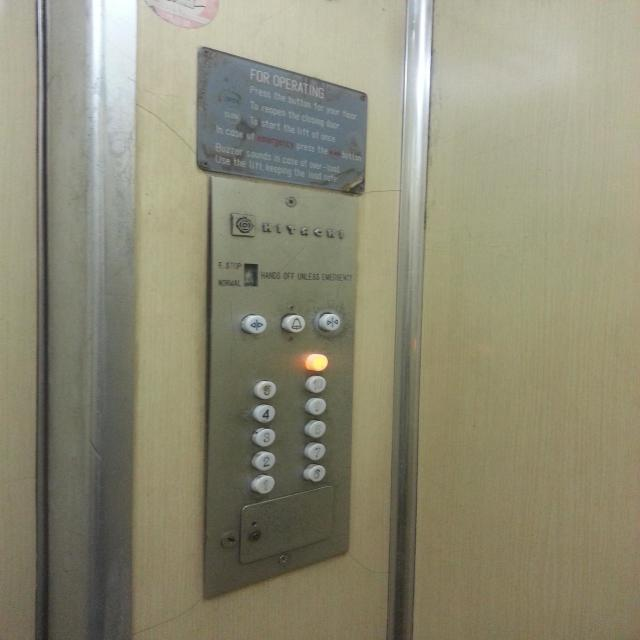1: (248, 474, 274, 494)
10: (304, 374, 326, 395)
2: (251, 450, 276, 471)
3: (252, 427, 275, 446)
4: (252, 404, 276, 423)
5: (253, 379, 276, 400)
6: (302, 462, 326, 482)
7: (304, 440, 326, 460)
8: (304, 418, 325, 438)
9: (305, 397, 326, 415)
alarm: (281, 312, 305, 334)
close: (318, 309, 342, 332)
empty: (304, 352, 328, 372)
keyhole: (219, 531, 238, 548)
open: (239, 314, 267, 334)
